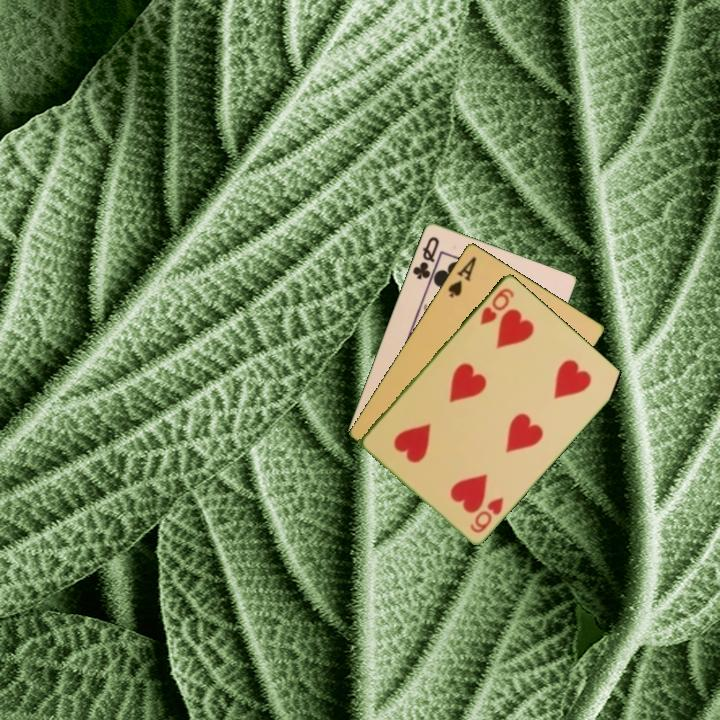6h: (476, 284, 517, 327), (466, 493, 507, 536)
As: (444, 253, 479, 300)
Qc: (409, 233, 442, 282)
